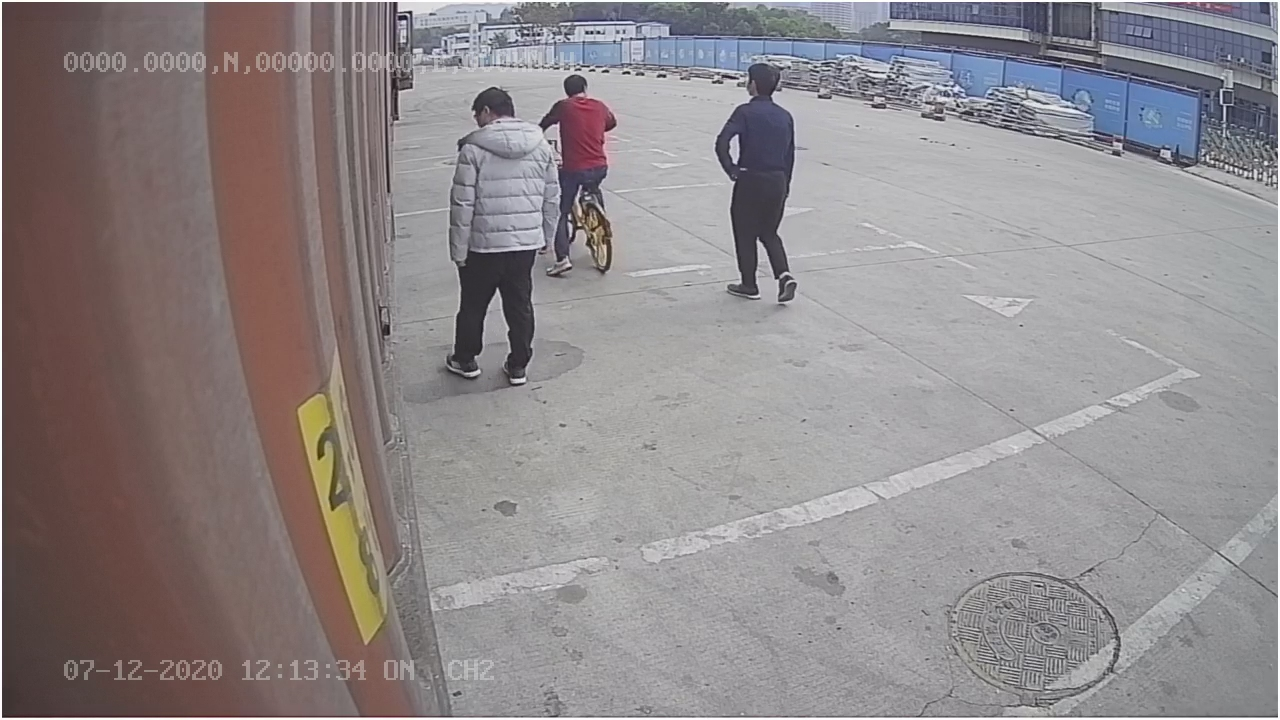person: (714, 56, 804, 309)
